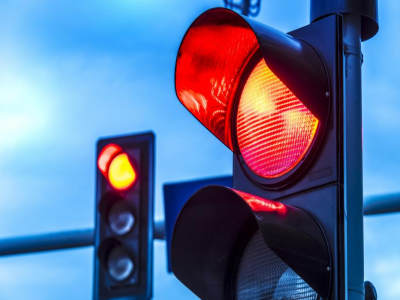trafficlight_red: (175, 10, 335, 300), (95, 138, 147, 297)
